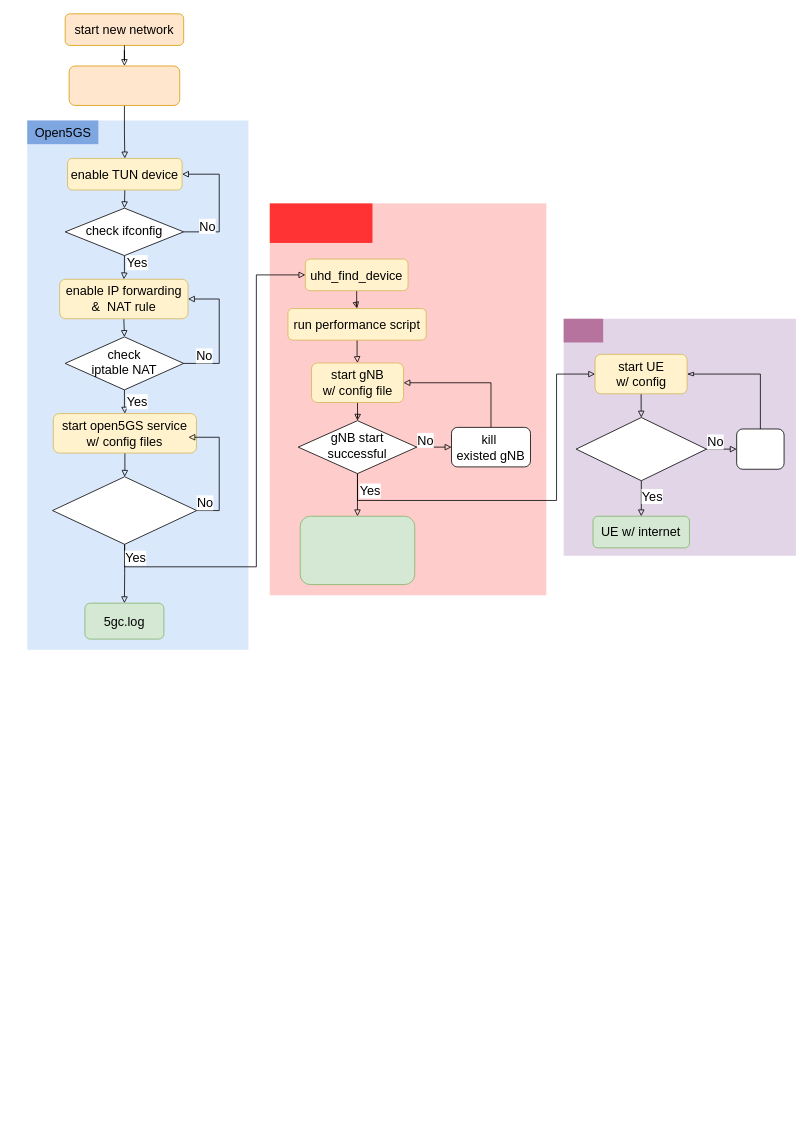
This 809x1142 diagram has some shape labels left out. Here are the shapes that lost their labels. From the top down, the centre of each, then its label:
At pixel 124 85: "connect laptop to the new network".
At pixel 320 223: "gNB srsRAN Project".
At pixel 583 330: "UE".
At pixel 640 449: "test internet access".
At pixel 760 448: "config UE".
At pixel 124 510: "check all open5GS Service start".
At pixel 357 550: "gNB log MAC Wireshark NGAP Wireshark gNB trace".
